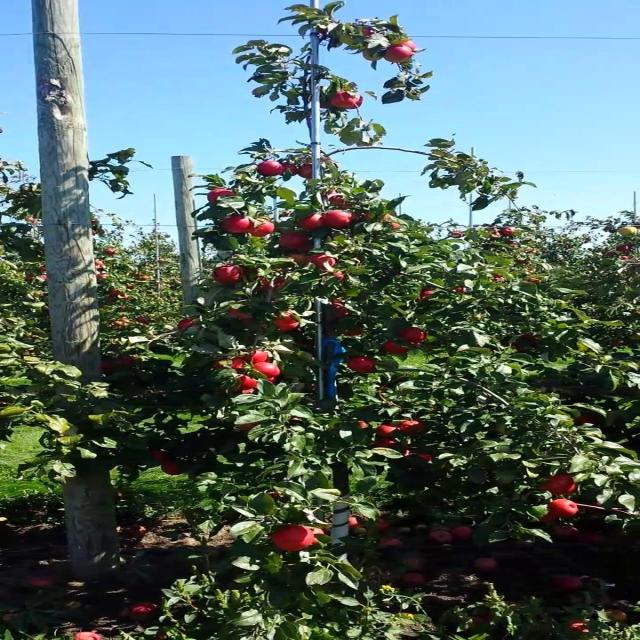apple: (271, 525, 316, 551), (540, 474, 578, 495), (384, 40, 418, 62), (382, 42, 416, 63), (220, 215, 253, 234), (213, 264, 244, 284), (329, 91, 362, 109), (322, 210, 353, 228), (278, 232, 309, 250), (511, 332, 540, 351), (273, 311, 300, 331), (298, 212, 324, 231), (549, 499, 578, 516), (309, 254, 338, 271), (253, 361, 280, 379), (213, 356, 247, 370), (347, 356, 376, 372), (398, 328, 427, 344), (207, 188, 236, 204), (256, 276, 284, 292), (249, 221, 276, 237), (258, 160, 284, 176), (382, 340, 409, 355), (573, 411, 604, 424), (398, 420, 424, 435), (244, 349, 271, 363), (322, 189, 344, 204), (238, 375, 258, 391), (331, 302, 351, 318), (229, 309, 253, 322), (376, 424, 398, 438), (329, 195, 351, 209), (160, 461, 180, 475), (113, 356, 136, 368), (396, 39, 418, 51), (149, 450, 171, 462), (298, 162, 313, 179), (371, 438, 396, 448), (100, 360, 116, 375), (281, 161, 298, 175), (178, 318, 198, 329), (289, 254, 309, 265), (618, 225, 638, 236), (236, 422, 257, 432), (540, 511, 558, 522), (298, 239, 313, 252), (362, 49, 378, 61), (267, 489, 284, 500), (342, 328, 364, 336), (360, 26, 376, 36), (329, 195, 344, 205), (356, 211, 371, 221), (331, 271, 347, 280), (349, 516, 362, 527), (389, 221, 402, 231), (420, 288, 433, 297), (356, 420, 369, 429), (418, 454, 433, 461), (402, 449, 413, 456), (267, 378, 276, 384)
